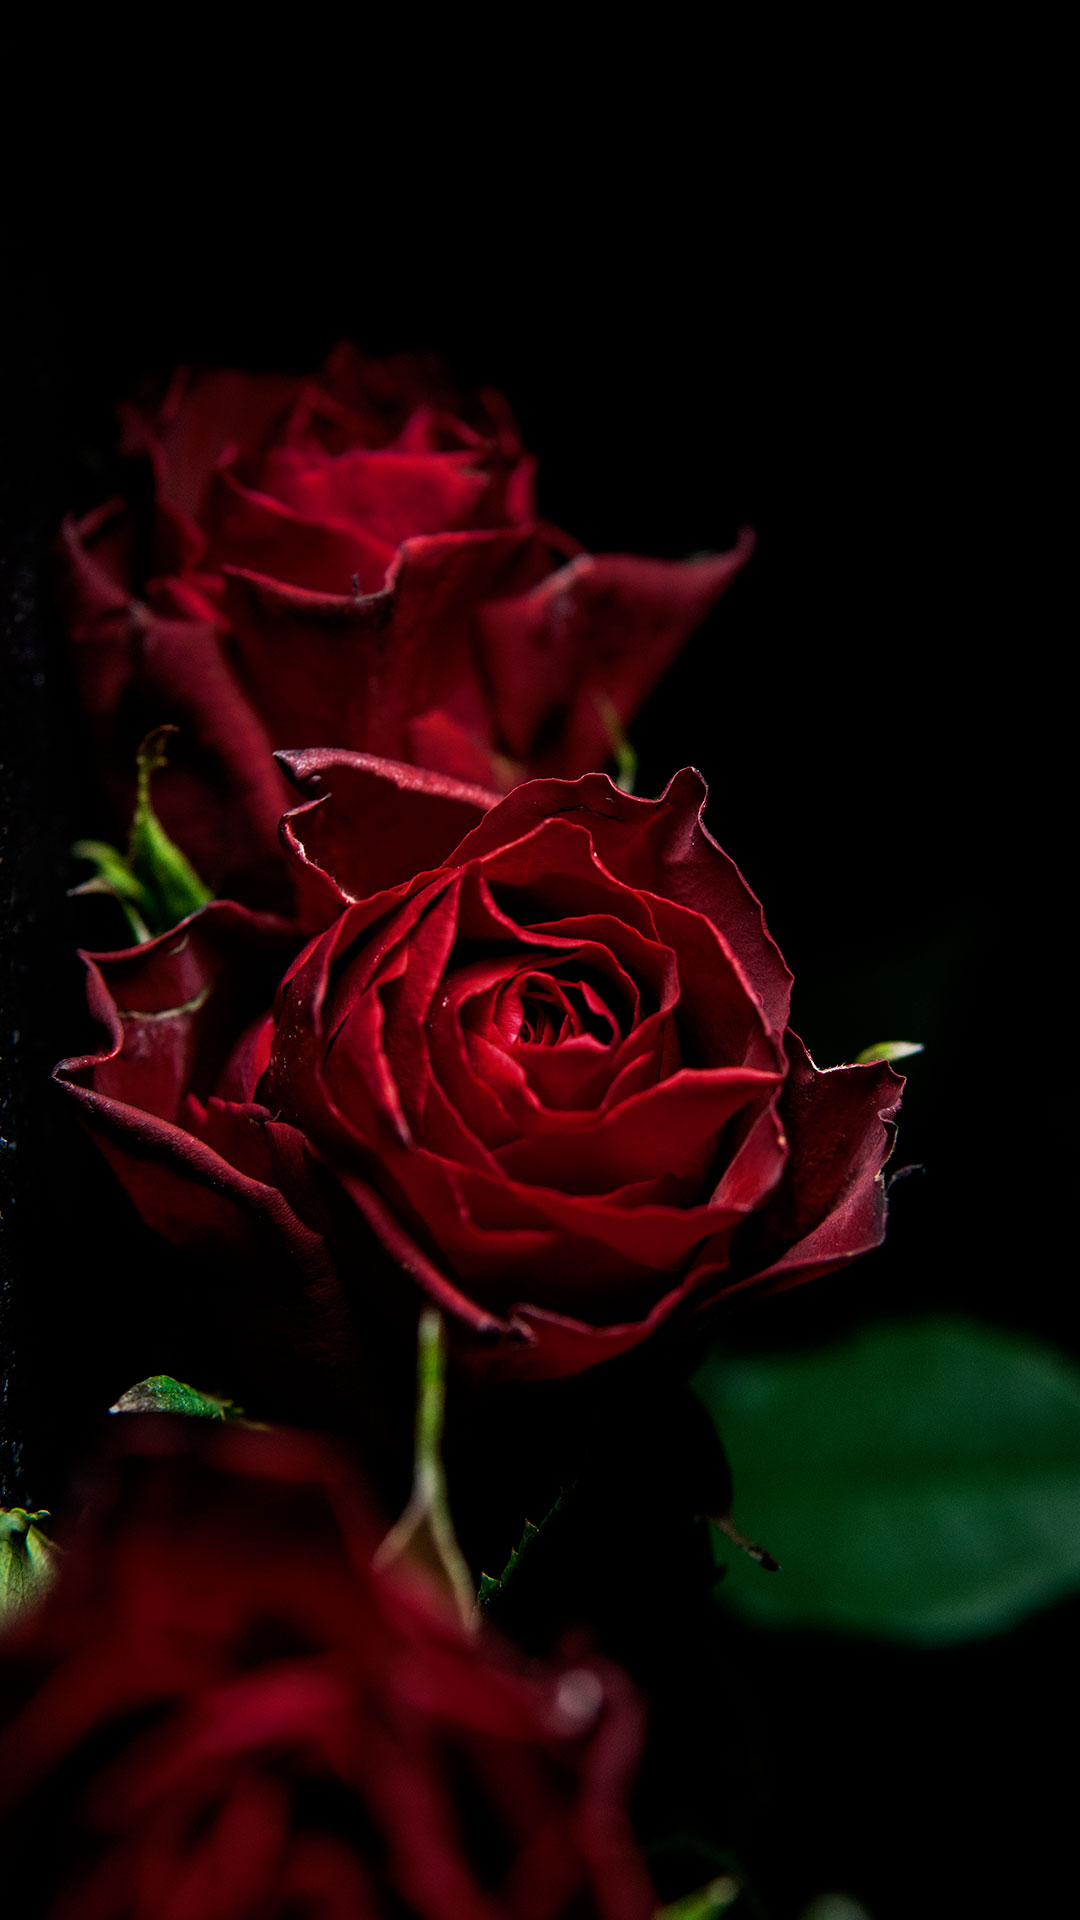rose: (80, 785, 1025, 1398), (49, 361, 773, 868), (7, 1396, 680, 1920)
